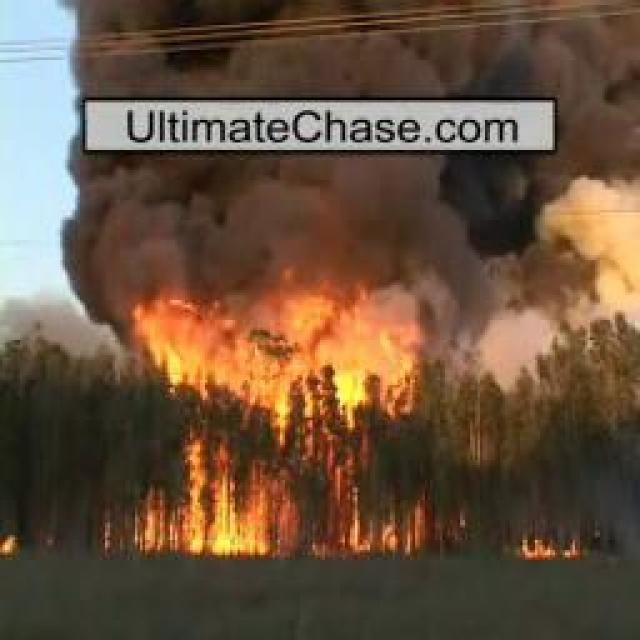Fire: (132, 280, 432, 555), (515, 536, 588, 560), (3, 528, 23, 562)
